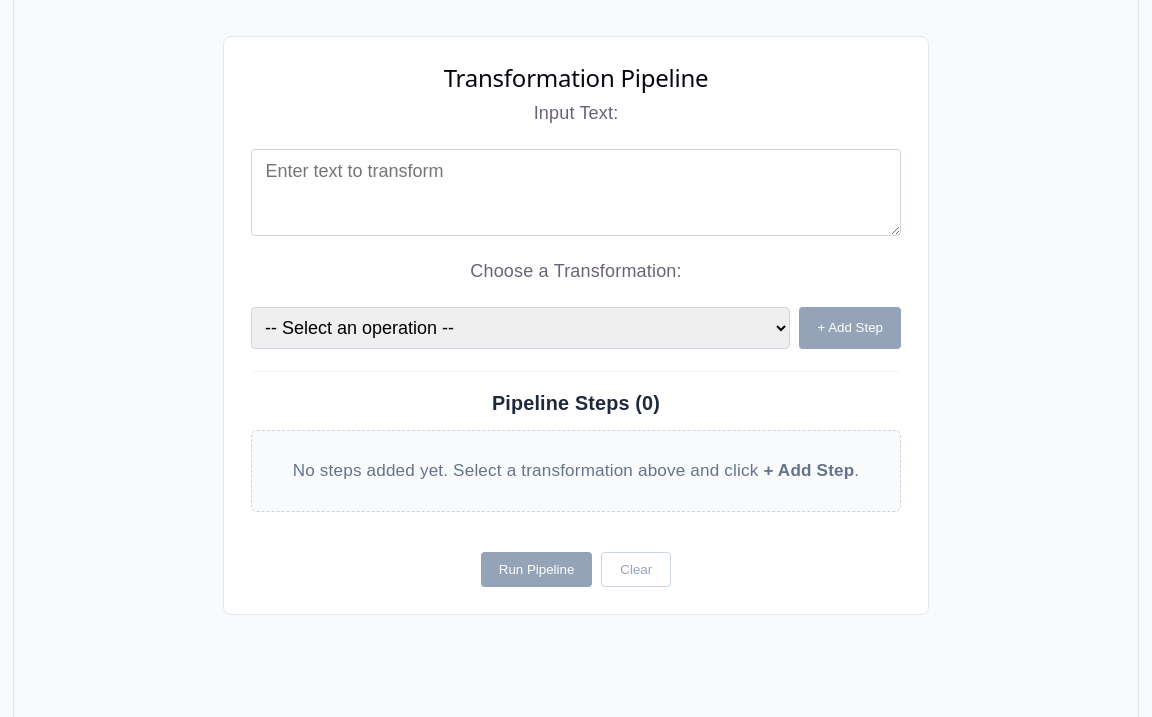
Test: TransformationPipeline › managing steps › renders parameter fields filled with default values
Select "Replace" in the dropdown labelled "Choose a Transformation:" at (521, 328), box [251, 307, 790, 349]
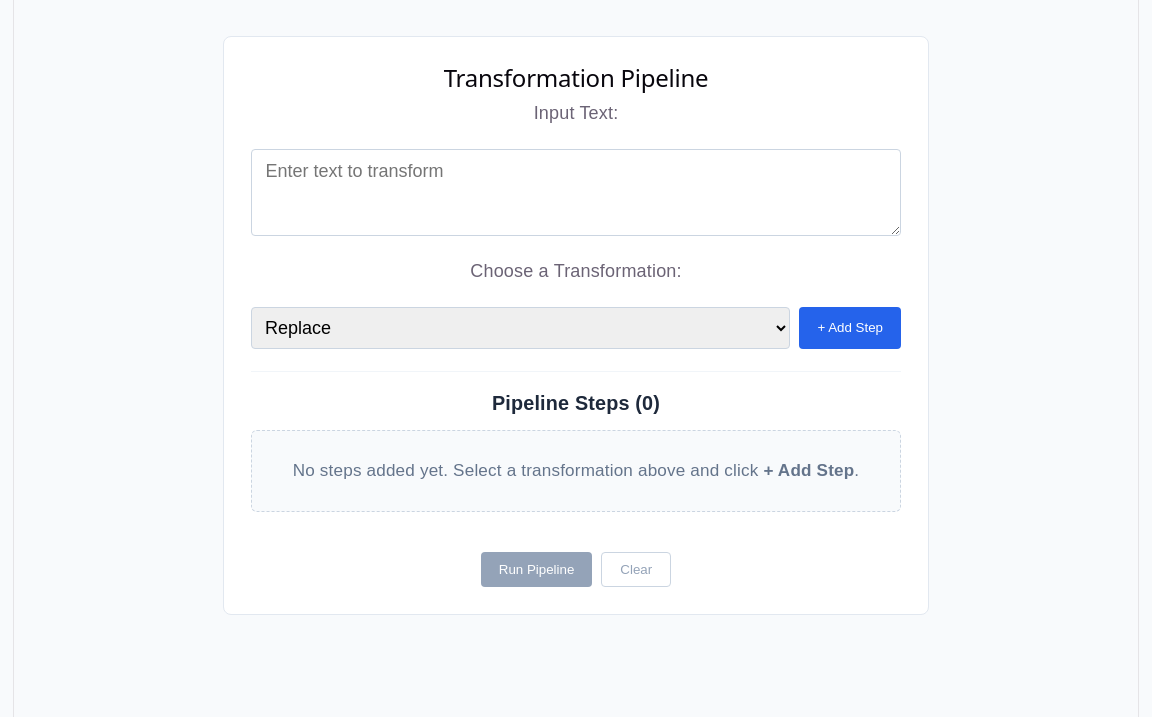
Click the button "+ Add Step" at (850, 328), box [799, 307, 901, 349]
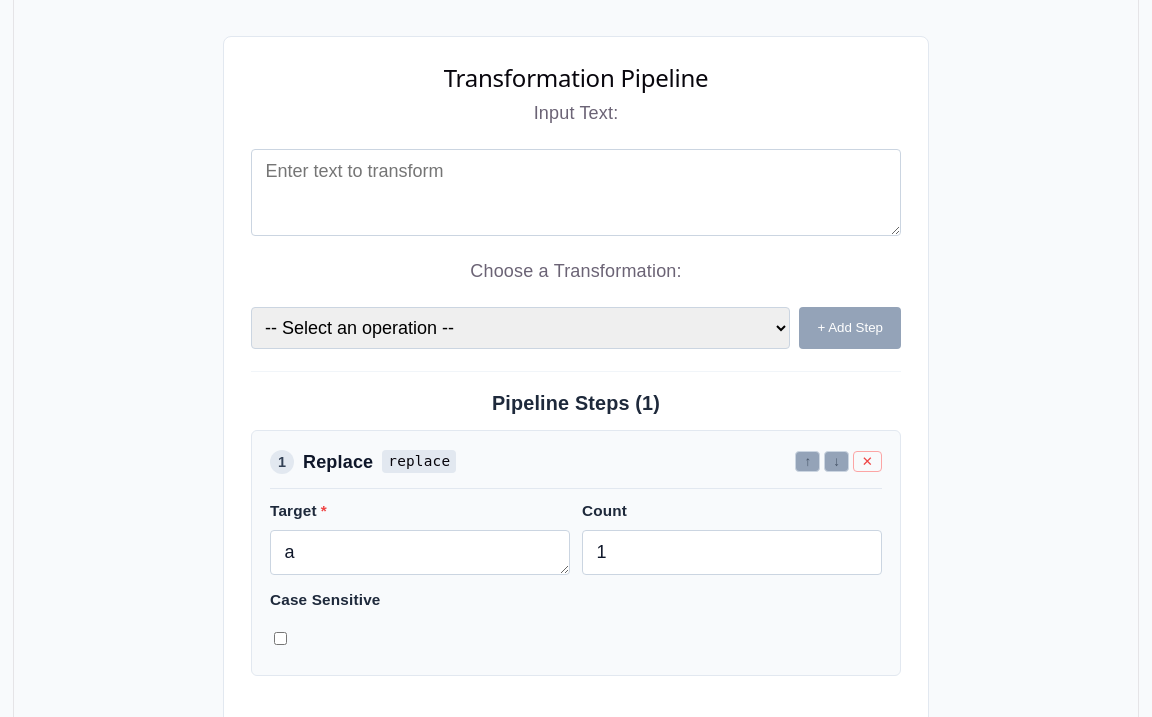
Expected: the 2nd text box holds "a", [270, 530, 570, 575]
Expected: the number field holds "1", [582, 530, 882, 575]
Expected: the checkbox is not checked, [274, 632, 287, 645]
